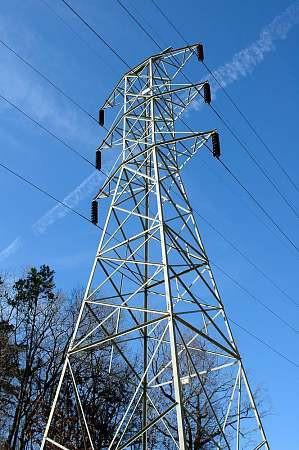power_tower: (38, 38, 260, 450)
